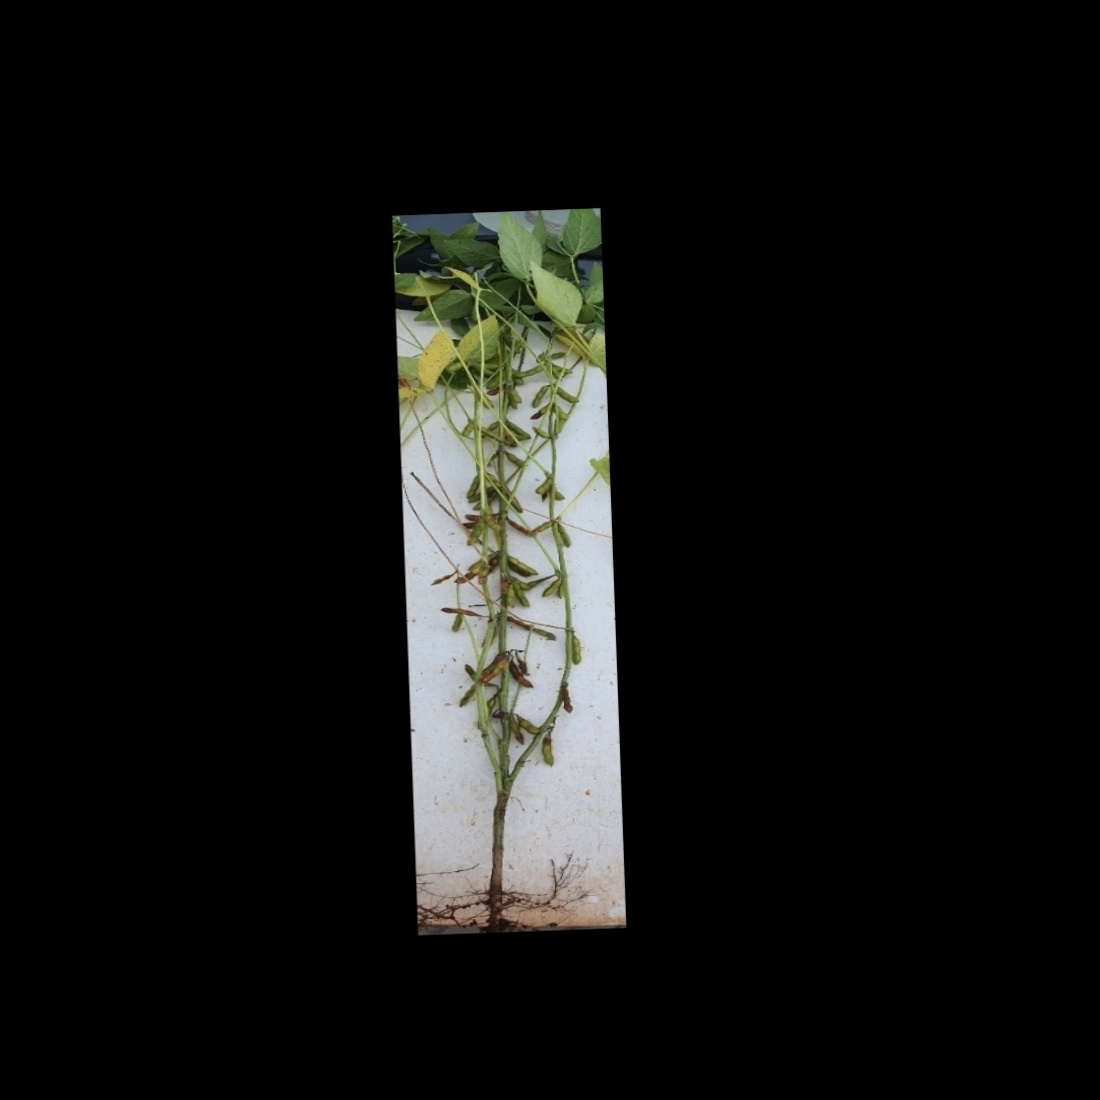pod: (507, 660, 538, 694), (503, 551, 539, 578), (507, 577, 531, 611), (503, 417, 532, 445), (475, 512, 507, 537), (538, 731, 558, 768), (526, 384, 552, 411), (515, 713, 542, 736), (567, 636, 588, 665), (508, 365, 547, 380), (552, 521, 572, 550), (555, 384, 580, 407), (540, 575, 562, 601), (532, 476, 551, 494)
soy: (404, 211, 622, 924)
